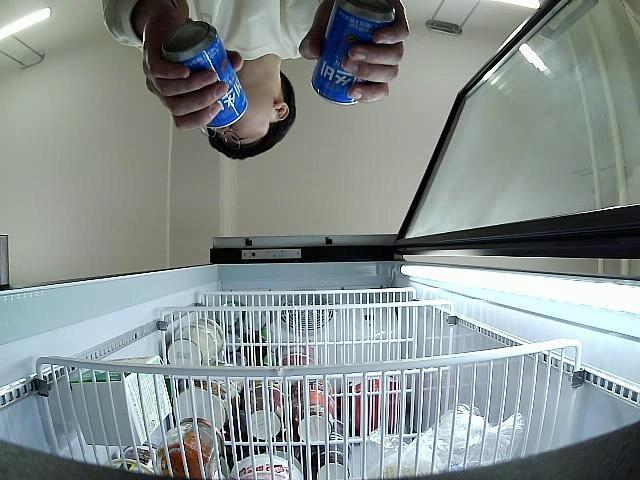15_letsbe: (162, 20, 248, 128), (311, 0, 396, 105)
